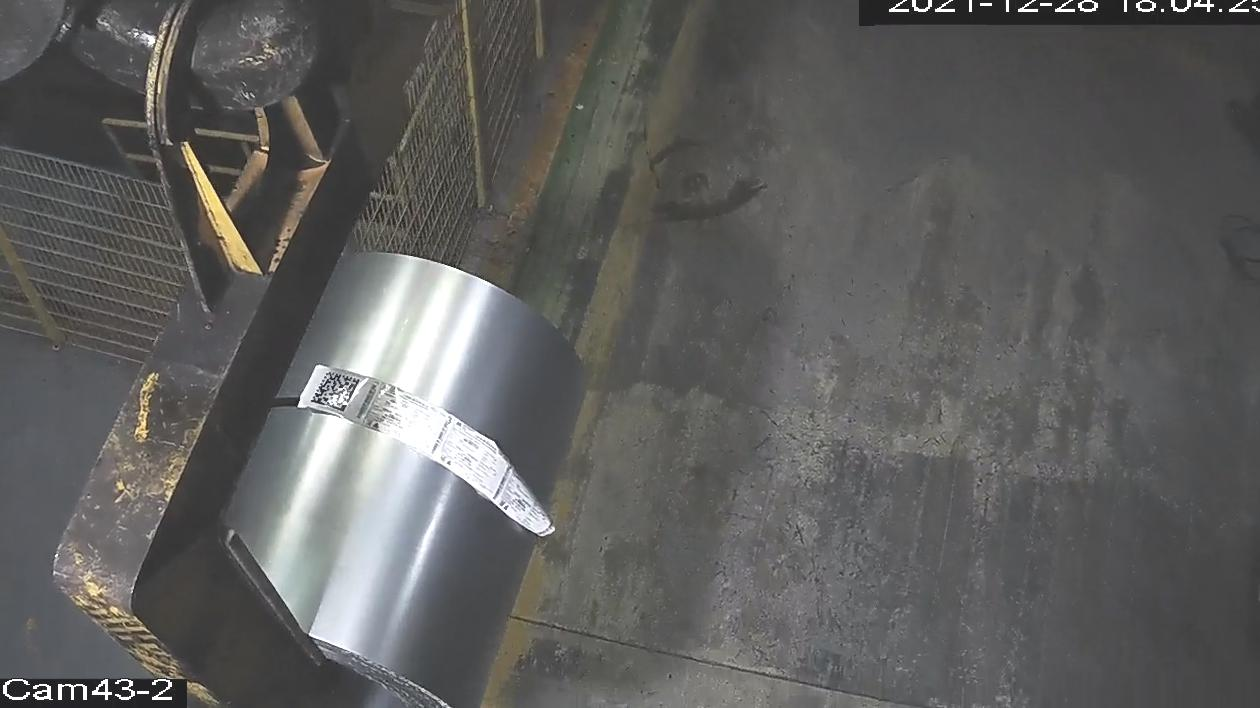data matrix: (309, 368, 363, 415)
